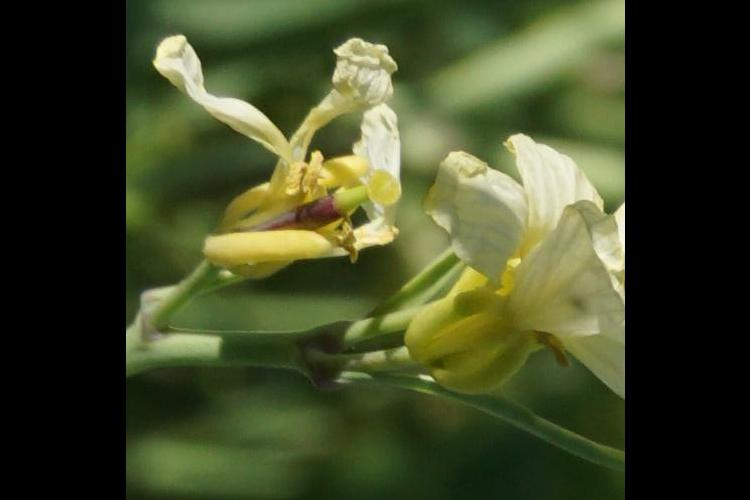white: (171, 34, 404, 265), (416, 146, 621, 400)
